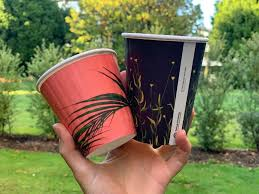paper_cup: (35, 47, 139, 159), (121, 31, 209, 148)
